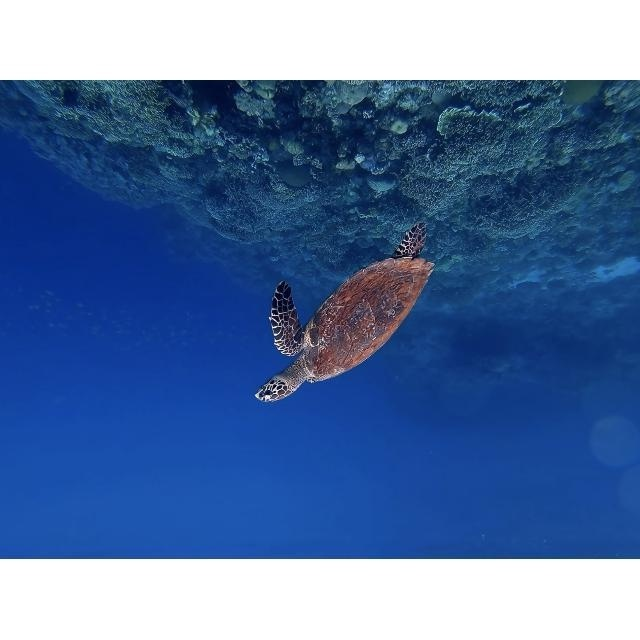turtle: (254, 221, 439, 405)
